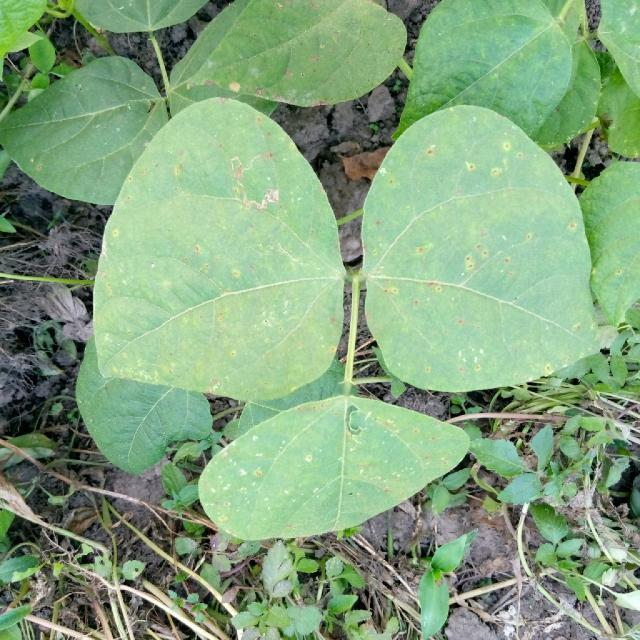hawar: (386, 149, 588, 393), (134, 124, 313, 363), (215, 423, 423, 500)
